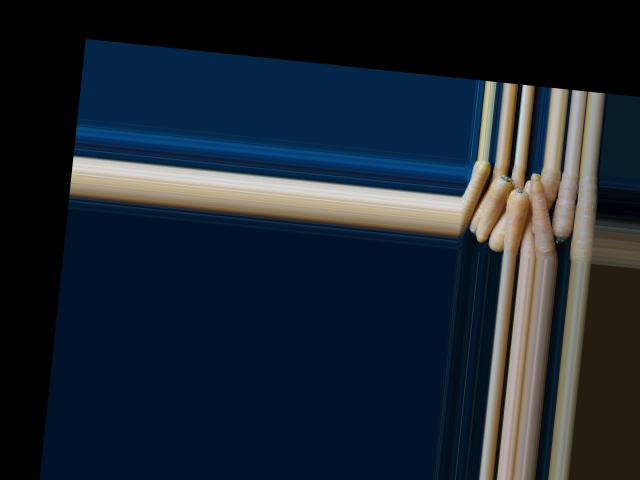carrot: (569, 170, 598, 260)
